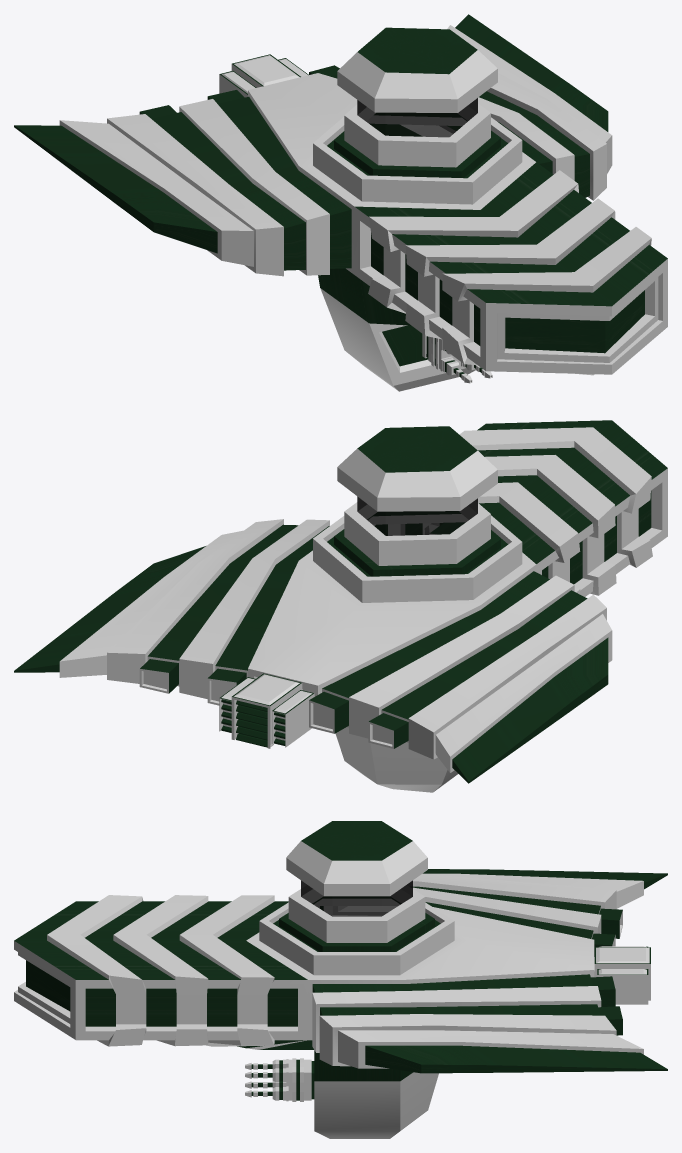
File: DEC.fbx
3 views of the same model, one above another, from view 1: azimuth 30°, elevation 25°; view 2: azimuth 150°, elevation 25°; view 3: azimuth 270°, elevation 25° (orthographic). The views are drawn at different scales.
Parts seen in each view (by area): view 1: DEC; view 2: DEC; view 3: DEC.
Part boxes in pixels (x1,y1,x2,y2): DEC: [14, 14, 667, 391]; DEC: [14, 420, 667, 792]; DEC: [14, 821, 667, 1138].
Size of the model in its own units: 6.01 by 4.06 by 8.49.
